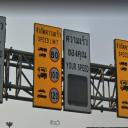speed_limit_100: (48, 64, 61, 86)
speed_limit_120: (47, 84, 61, 106)
speed_limit_80: (49, 46, 61, 64)
